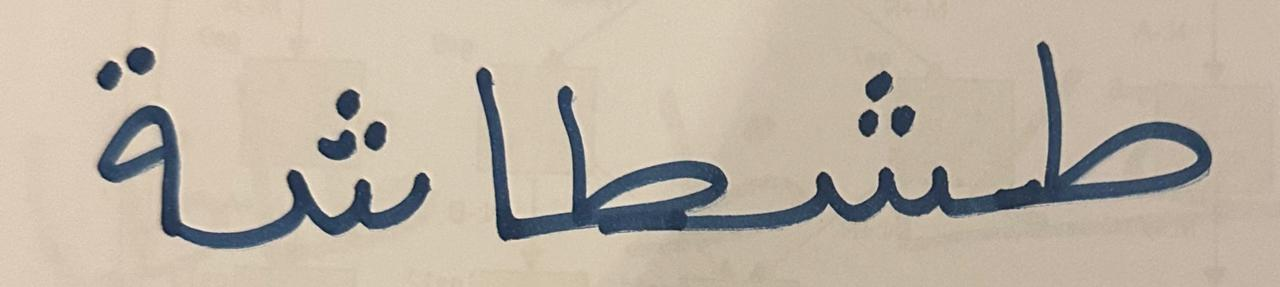alef: (455, 32, 535, 267)
tah: (218, 48, 449, 273), (753, 39, 971, 263)
teh: (974, 4, 1254, 254), (538, 23, 748, 271)
thal: (55, 6, 214, 268)
